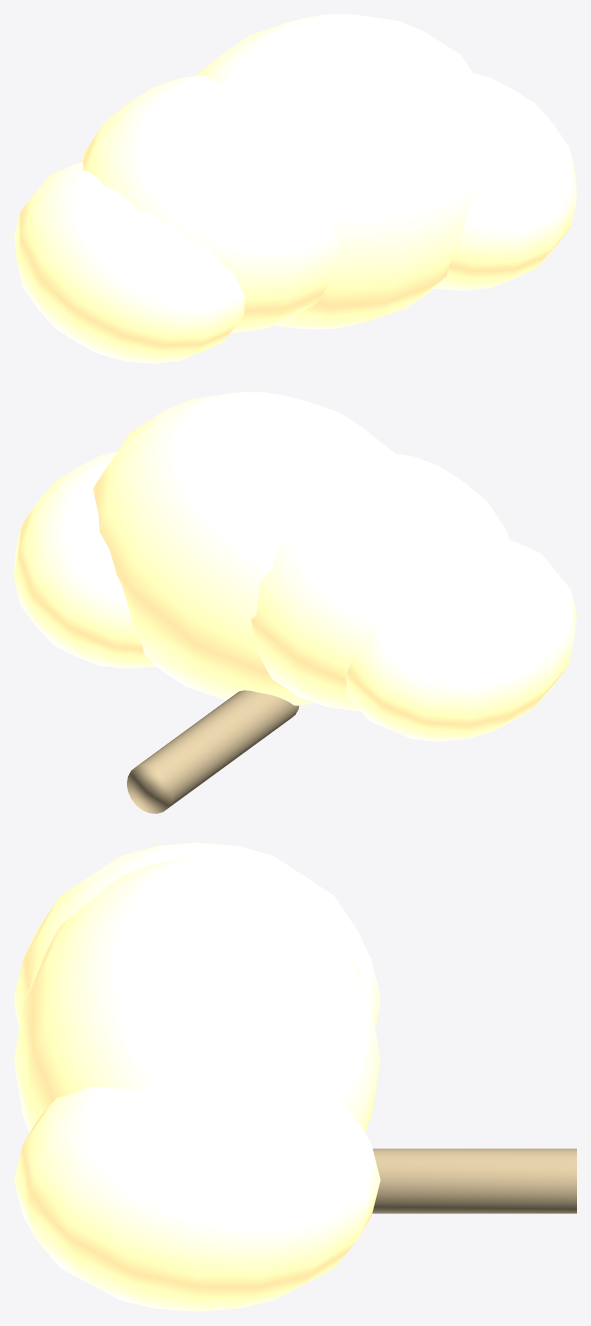
The model's file is cloud_sconce.glb.
3 renders of one model, top to bottom at view 1: azimuth 30°, elevation 25°; view 2: azimuth 150°, elevation 25°; view 3: azimuth 270°, elevation 25°, orthographic. The views are drawn at different scales.
Parts seen in each view (by area): view 1: cloud2, cloud1, cloud0, cloud3; view 2: cloud2, cloud1, cloud0, cloud3, wall arm; view 3: cloud2, cloud3, wall arm, cloud1.
Boxes of the visible parts, bbox=[...] form: cloud2: bbox=[196, 14, 497, 329]; cloud1: bbox=[82, 75, 339, 333]; cloud0: bbox=[14, 161, 244, 363]; cloud3: bbox=[434, 73, 576, 290]; cloud2: bbox=[93, 392, 394, 705]; cloud1: bbox=[251, 453, 508, 711]; cloud0: bbox=[346, 539, 576, 741]; cloud3: bbox=[14, 451, 156, 668]; wall arm: bbox=[127, 690, 298, 813]; cloud2: bbox=[14, 858, 380, 1132]; cloud3: bbox=[14, 1084, 380, 1311]; wall arm: bbox=[372, 1148, 576, 1213]; cloud1: bbox=[14, 842, 380, 1028].
Size of the model in its own units: 0.5644 by 0.3 by 0.43.
